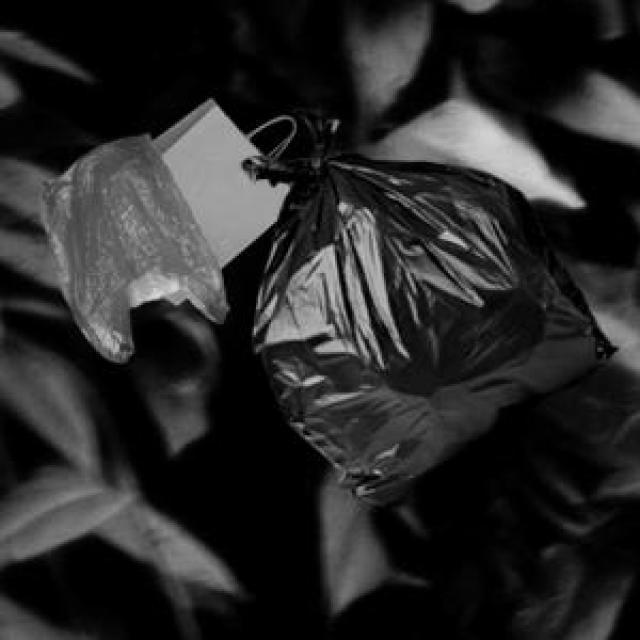miscellaneous trash: (239, 105, 612, 501)
paper: (147, 96, 288, 301)
